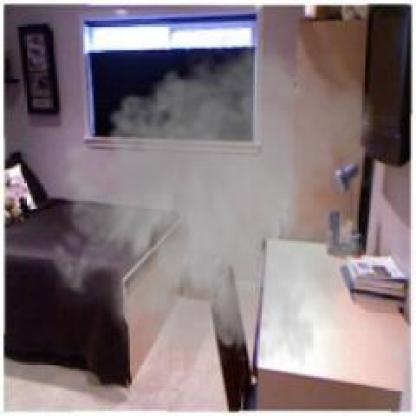Smoke: (41, 28, 382, 392)
